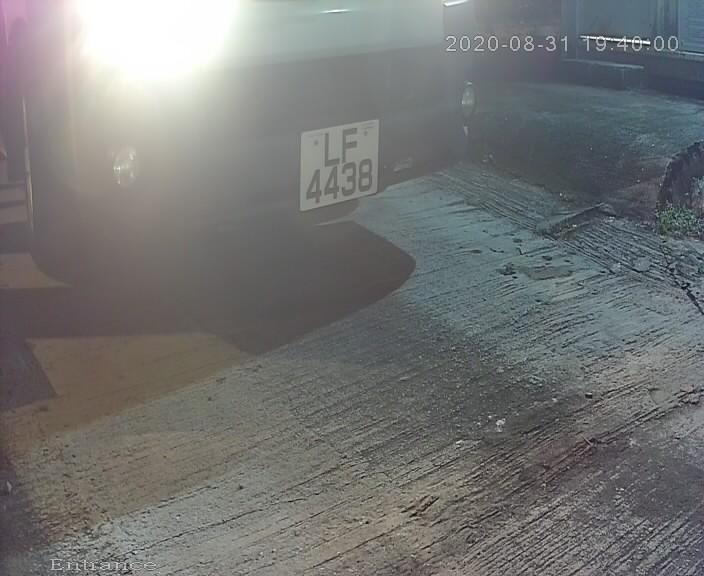License Plate: (287, 98, 393, 224)
